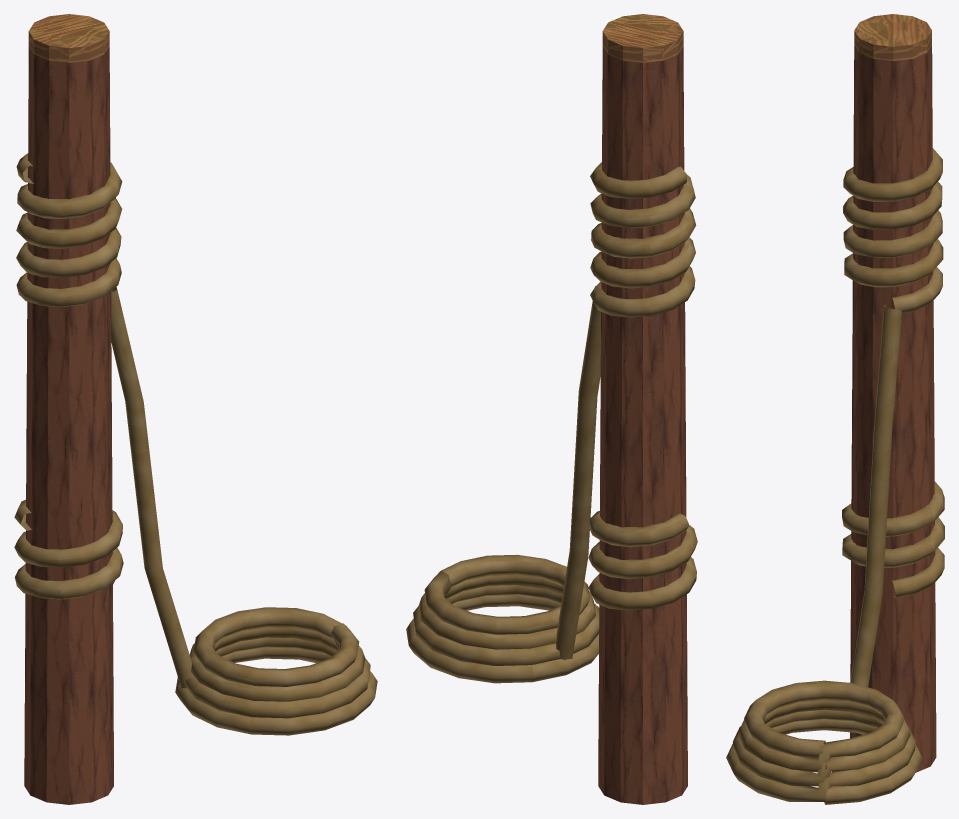
File: rope.glb
The picture shows the model from 3 angles, left to right: view 1: azimuth 30°, elevation 25°; view 2: azimuth 150°, elevation 25°; view 3: azimuth 270°, elevation 25°; orthographic projection. The views are drawn at different scales.
Visible parts, largest first — view 1: cylinder; view 2: cylinder; view 3: cylinder.
Boxes of the visible parts, x1=… form: cylinder: x1=14, y1=14, x2=377, y2=804; cylinder: x1=406, y1=14, x2=697, y2=804; cylinder: x1=726, y1=14, x2=944, y2=804.
Bounding box in the file's own units: 0.7555 × 1.77 × 0.4837.
3 materials, 3 textured.
